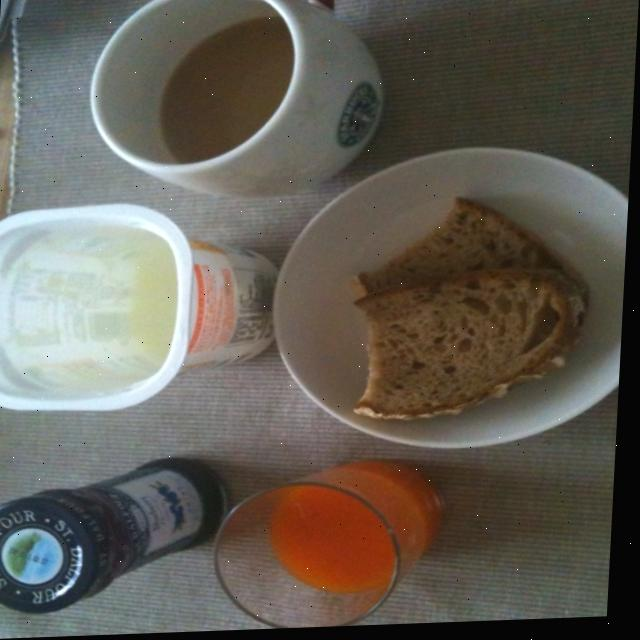面包点心: (272, 145, 633, 470)
